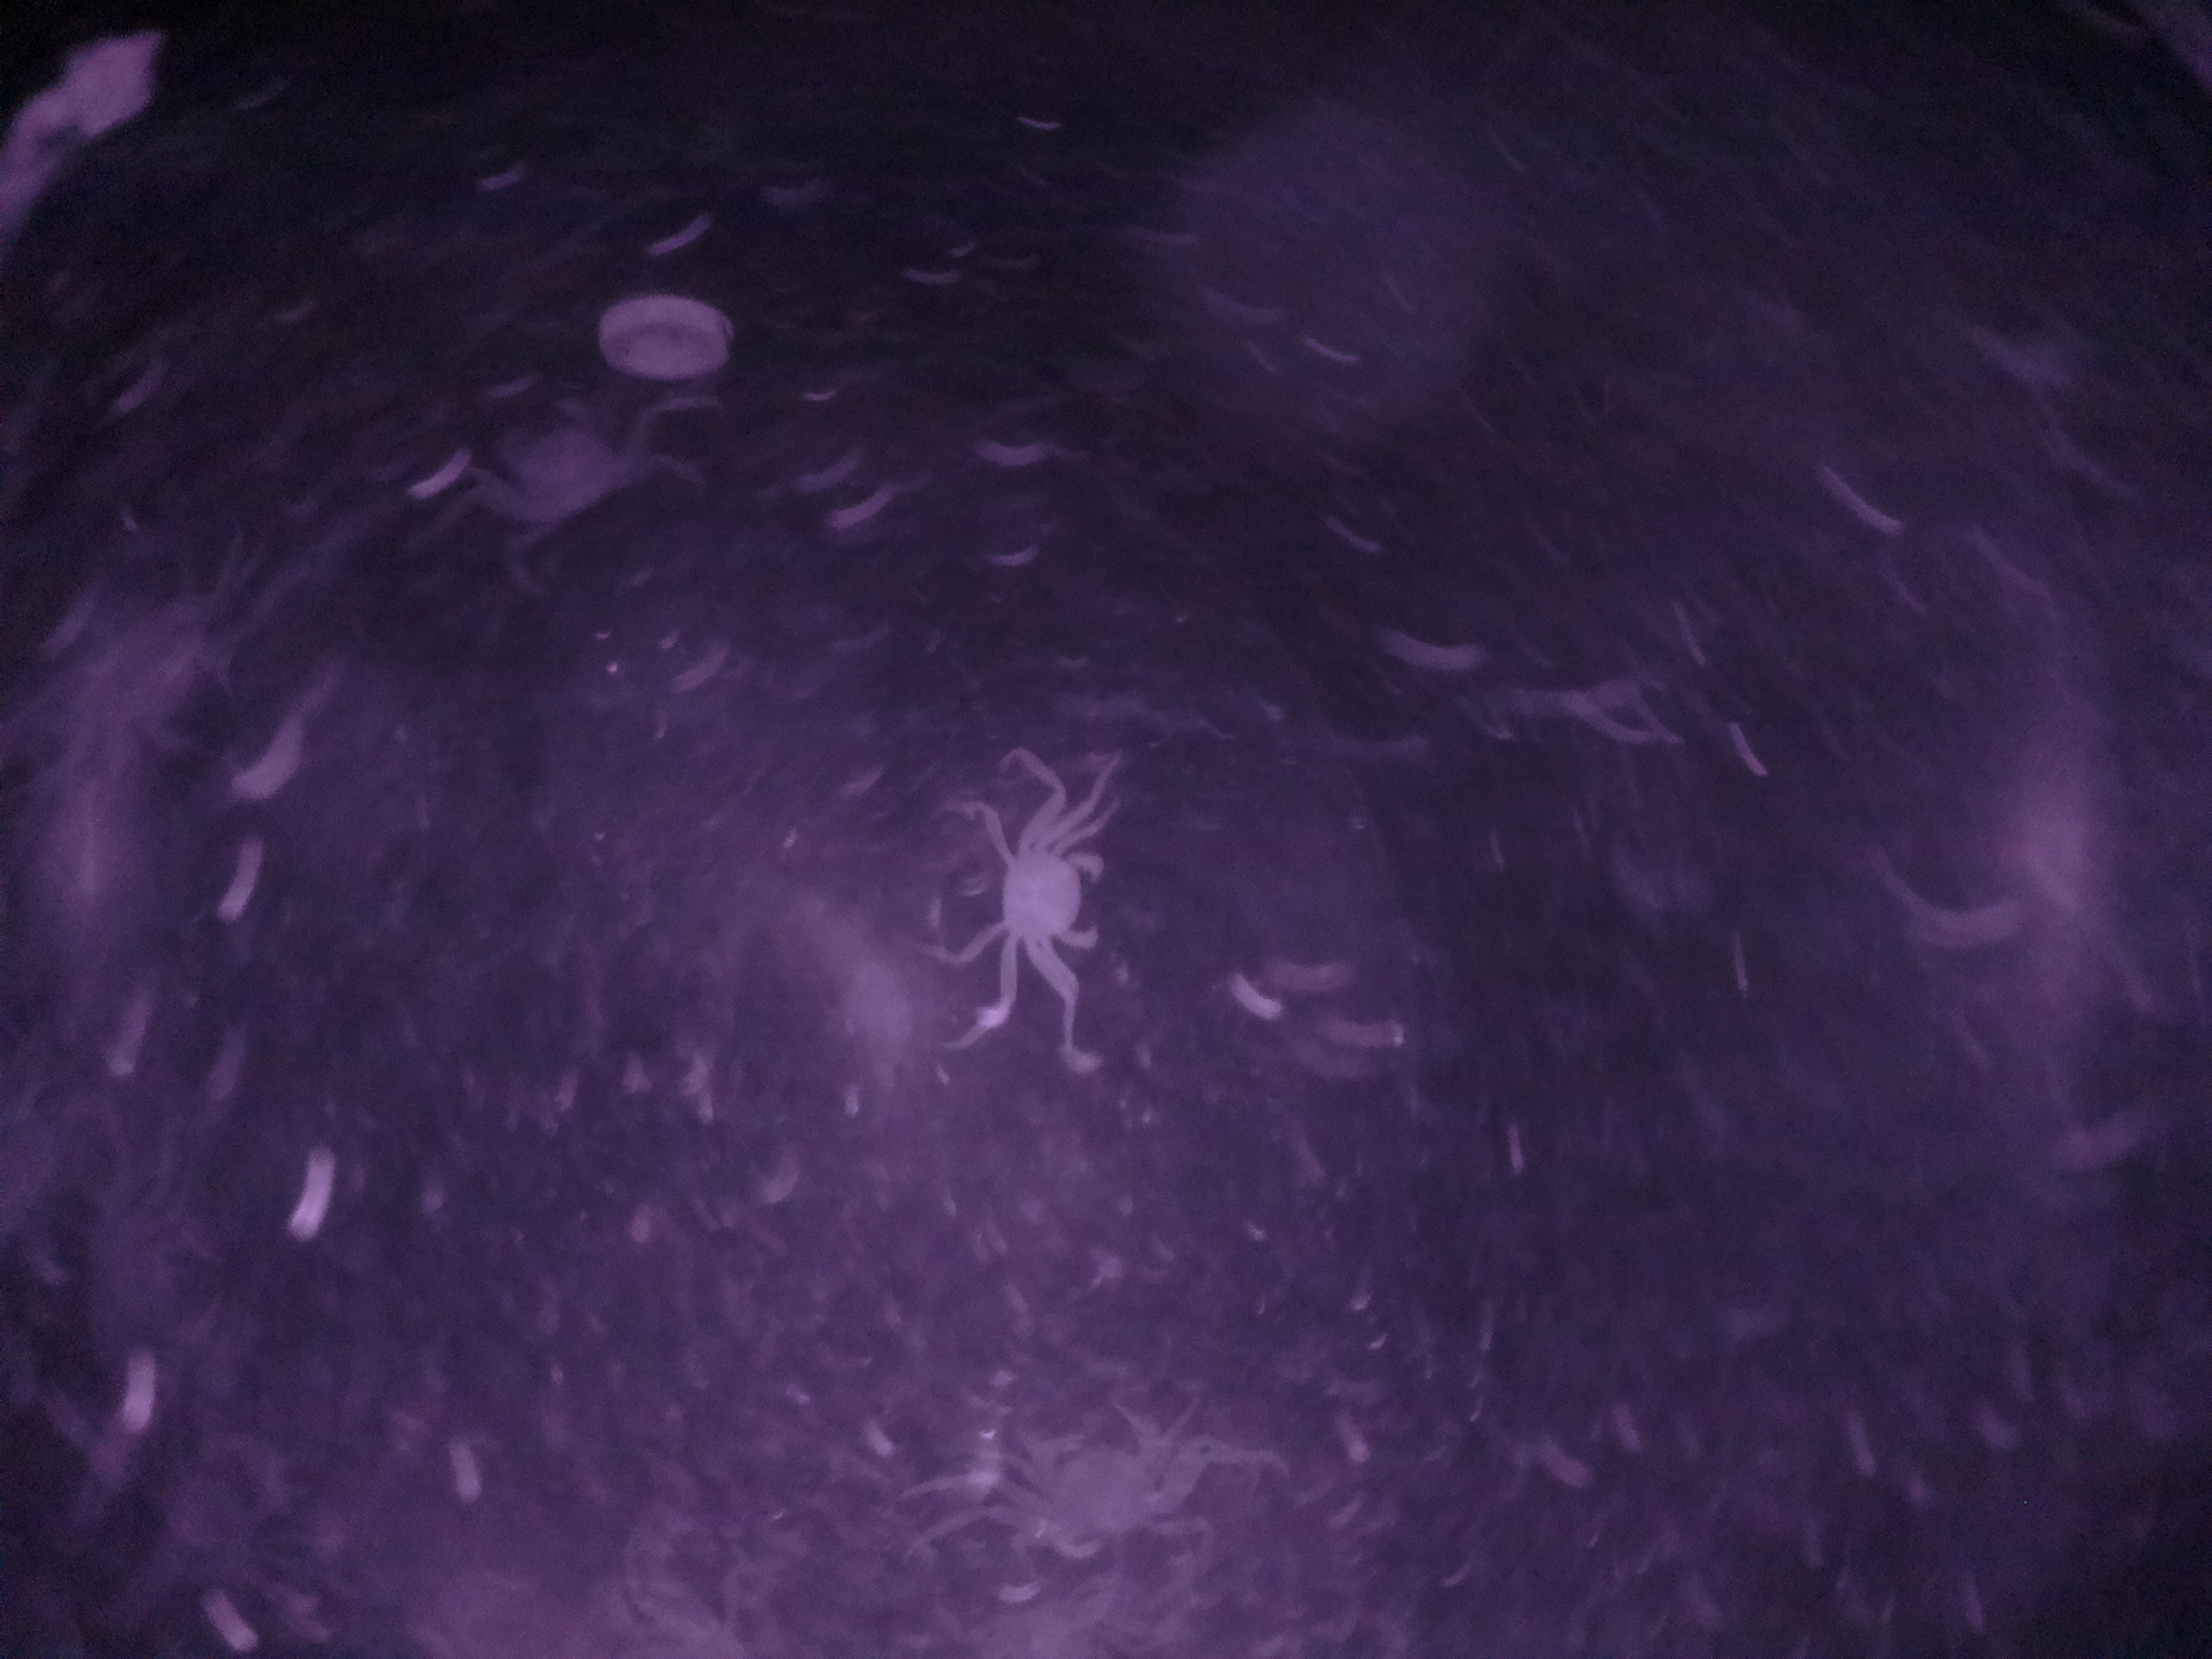Crab: (956, 777, 1123, 1019)
